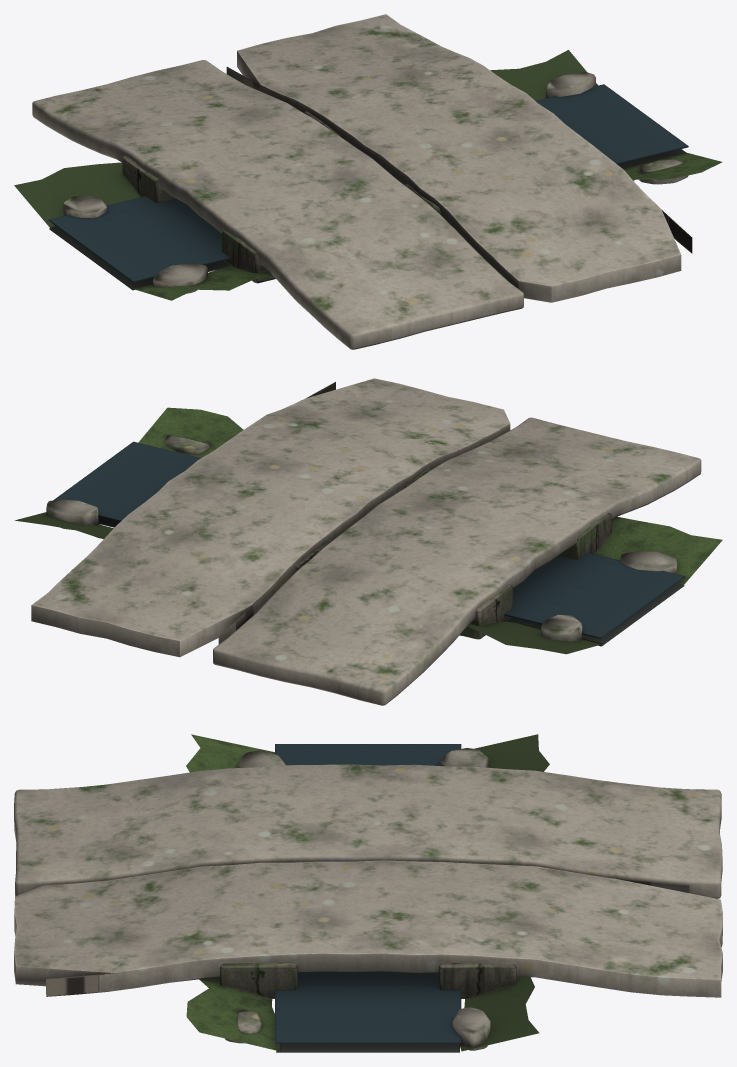
Rendered from PathBridgeSlab.fbx.
The picture shows the model from 3 angles, top to bottom: view 1: azimuth 30°, elevation 25°; view 2: azimuth 150°, elevation 25°; view 3: azimuth 270°, elevation 25°; orthographic projection. The views are drawn at different scales.
Parts seen in each view (by area): view 1: PathBridgeSlab_Main, PathBridgeSlab_Glass; view 2: PathBridgeSlab_Main, PathBridgeSlab_Glass; view 3: PathBridgeSlab_Main, PathBridgeSlab_Glass.
Boxes of the visible parts, box(x1,y1,x2,y2) form: PathBridgeSlab_Main: box(14, 14, 722, 349); PathBridgeSlab_Glass: box(48, 84, 688, 282); PathBridgeSlab_Main: box(14, 378, 722, 705); PathBridgeSlab_Glass: box(53, 441, 684, 638); PathBridgeSlab_Main: box(14, 734, 722, 1052); PathBridgeSlab_Glass: box(275, 744, 461, 1043).
Bounding box in the file's own units: 1000 × 70.27 × 1003.
